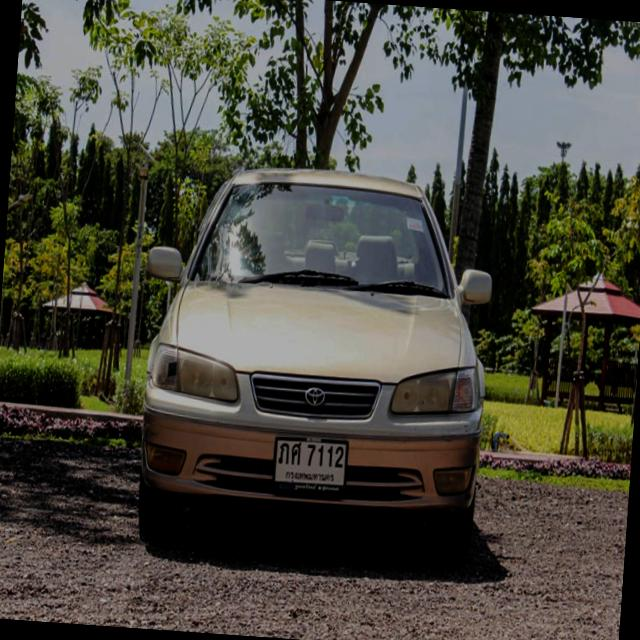license_plate: (270, 435, 349, 500)
